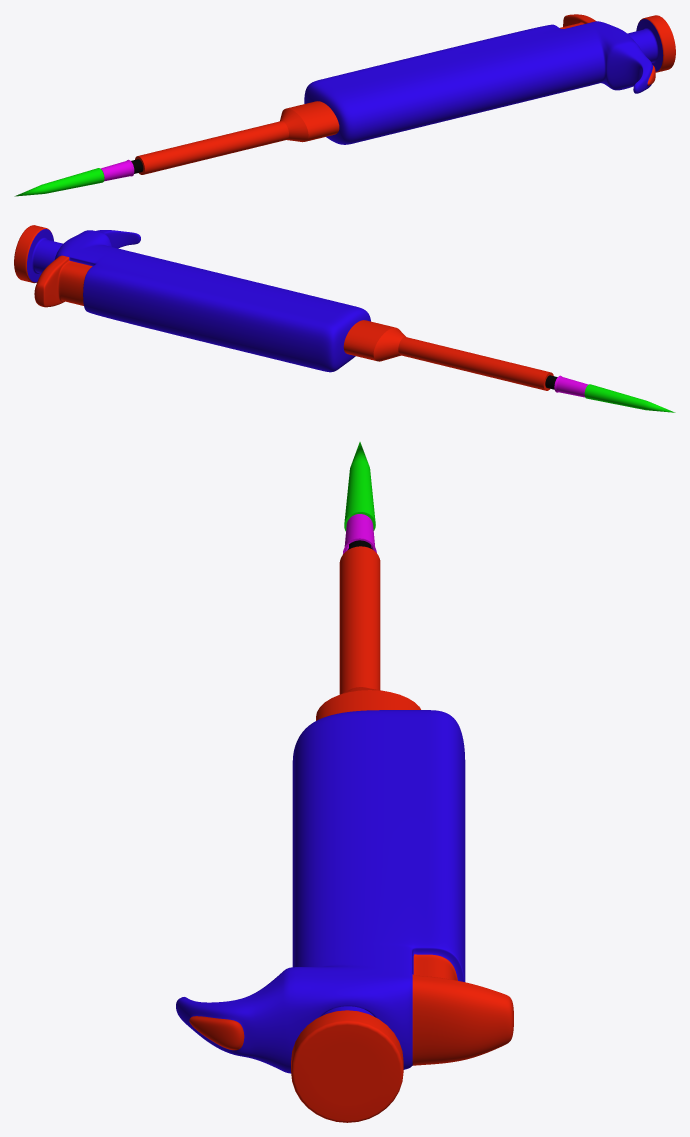
The model's file is M.Pipette.fbx.
The picture shows the model from 3 angles, top to bottom: view 1: azimuth 30°, elevation 25°; view 2: azimuth 150°, elevation 25°; view 3: azimuth 270°, elevation 25°; orthographic projection. The views are drawn at different scales.
Visible parts, largest first — view 1: Cube, Cube.003; view 2: Cube, Cube.003; view 3: Cube, Cube.003.
Boxes of the visible parts, x1,y1,x2,y2 form: Cube: (100,14,675,181); Cube.003: (14,168,104,196); Cube: (14,225,588,397); Cube.003: (584,384,675,412); Cube: (176,514,513,1122); Cube.003: (344,442,375,531).
Size of the model in its own units: 36.47 by 2.76 by 8.28.
